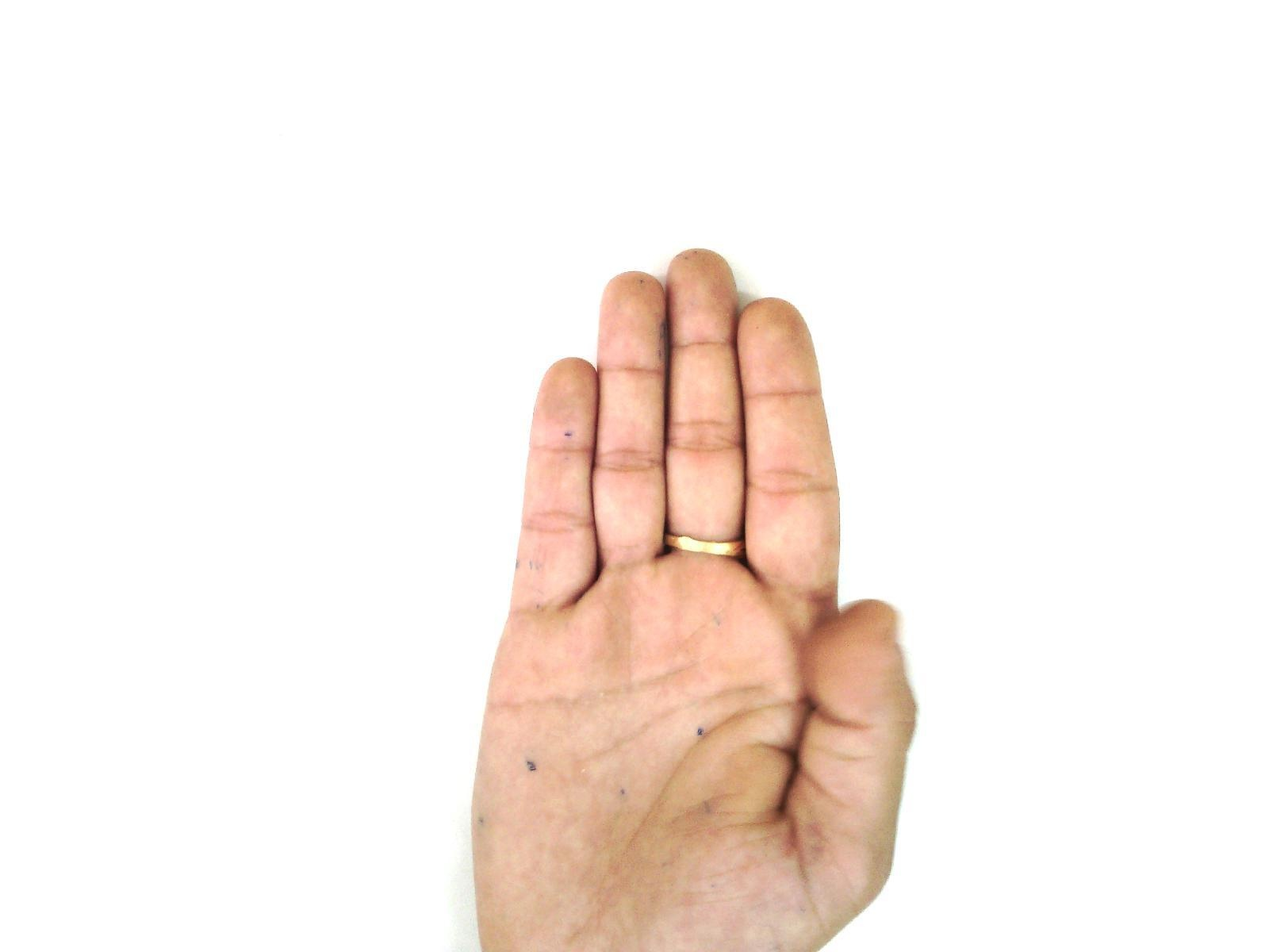open_palm: (467, 248, 921, 951)
